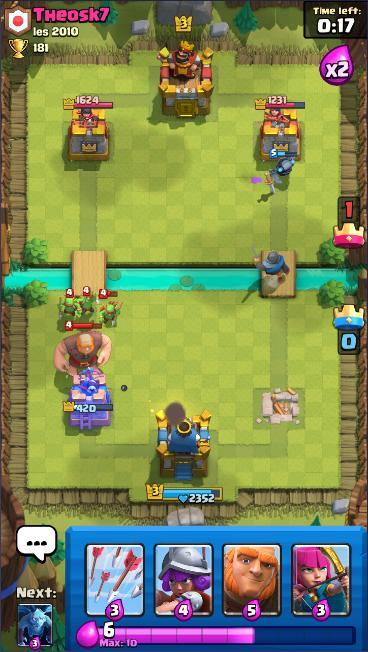ally_knight: (248, 241, 291, 284)
ally_mini_pekka: (267, 147, 300, 178)
enemy_giant: (54, 320, 114, 378)
enemy_spear_goblin: (97, 288, 123, 329), (57, 286, 83, 320), (74, 286, 99, 316)
